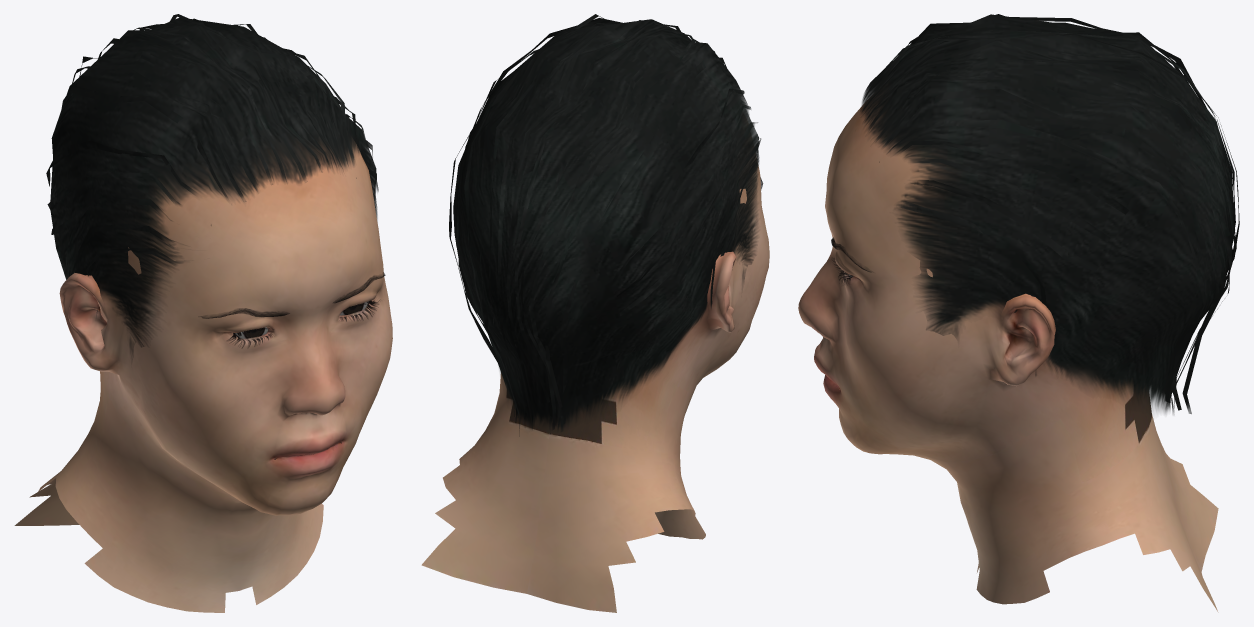
The model's file is patient03.glb.
The picture shows the model from 3 angles, left to right: view 1: azimuth 30°, elevation 25°; view 2: azimuth 150°, elevation 25°; view 3: azimuth 270°, elevation 25°; orthographic projection. The views are drawn at different scales.
Parts seen in each view (by area): view 1: lee_rider.body, lee_rider.short04, lee_rider.eyebrow003, lee_rider.eyelashes01; view 2: lee_rider.short04, lee_rider.body; view 3: lee_rider.short04, lee_rider.body.
Boxes of the visible parts, x1=… form: lee_rider.body: x1=14, y1=142, x2=392, y2=612; lee_rider.short04: x1=46, y1=14, x2=378, y2=359; lee_rider.eyebrow003: x1=198, y1=272, x2=385, y2=318; lee_rider.eyelashes01: x1=227, y1=300, x2=379, y2=348; lee_rider.short04: x1=449, y1=14, x2=761, y2=436; lee_rider.body: x1=421, y1=137, x2=769, y2=612; lee_rider.short04: x1=860, y1=14, x2=1239, y2=414; lee_rider.body: x1=798, y1=100, x2=1218, y2=612.
Bounding box in the file's own units: 0.1717 × 0.312 × 0.2254.
Materials: 8 (7 with a texture image).
